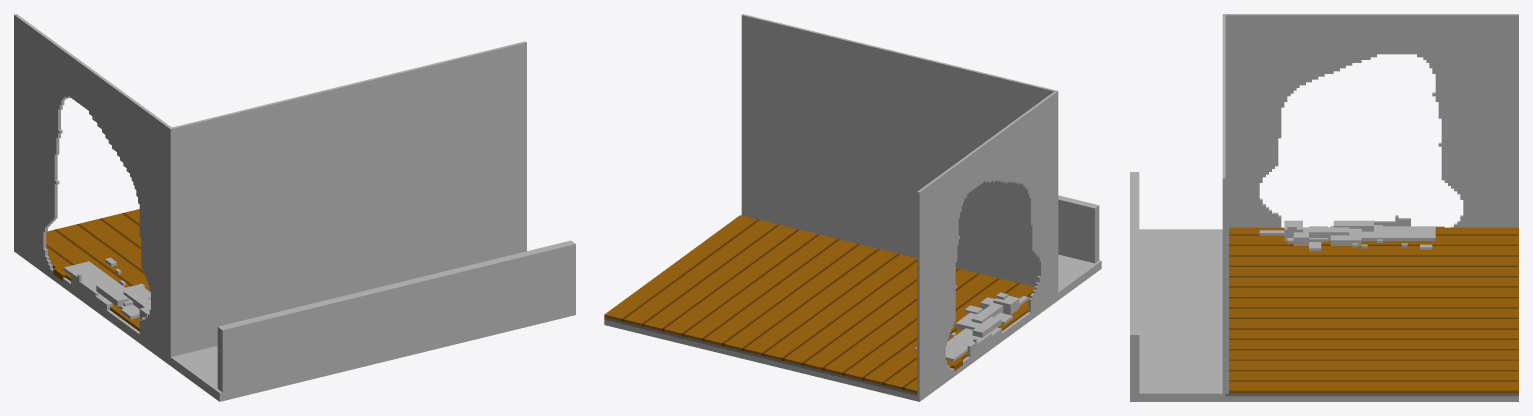
The model's file is 4x2 second (1)-1.obj.
3 renders of one model, left to right at view 1: azimuth 30°, elevation 25°; view 2: azimuth 150°, elevation 25°; view 3: azimuth 270°, elevation 25°, orthographic. The views are drawn at different scales.
Parts seen in each view (by area): view 1: 4x2 second (1)-1; view 2: 4x2 second (1)-1; view 3: 4x2 second (1)-1.
Boxes of the visible parts, bbox=[...] form: 4x2 second (1)-1: bbox=[14, 14, 575, 401]; 4x2 second (1)-1: bbox=[604, 14, 1101, 401]; 4x2 second (1)-1: bbox=[1130, 14, 1518, 401].
Bounding box in the file's own units: 126 × 80 × 126.
1 material, 1 textured.
